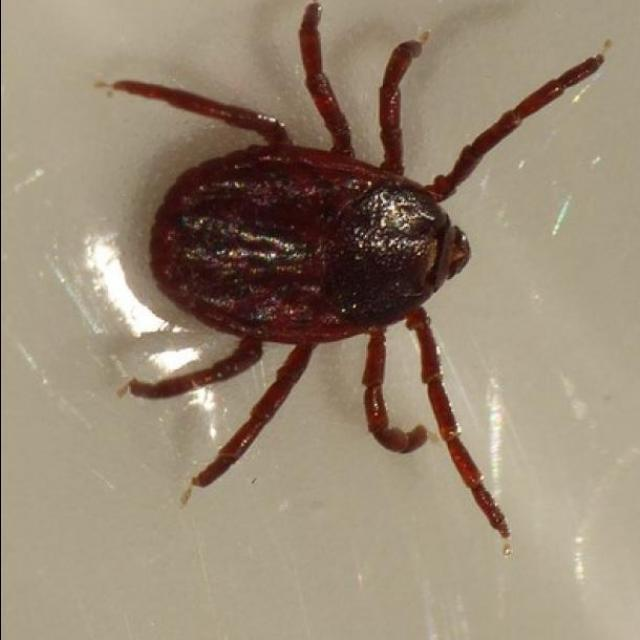Rhipicephalus Sanguineus-F: (110, 1, 603, 545)
